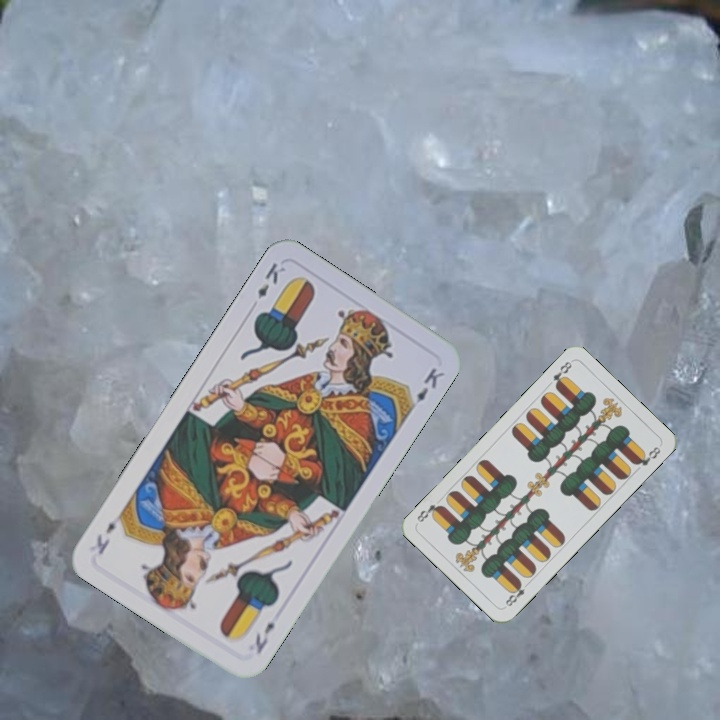E8: (501, 577, 533, 609), (549, 357, 575, 391)
EK: (253, 258, 288, 301), (251, 618, 278, 657)
